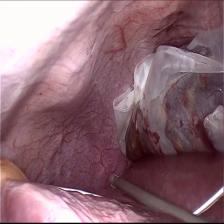Irrigator: (107, 168, 127, 197)
Specimen Bag: (112, 28, 224, 161)
